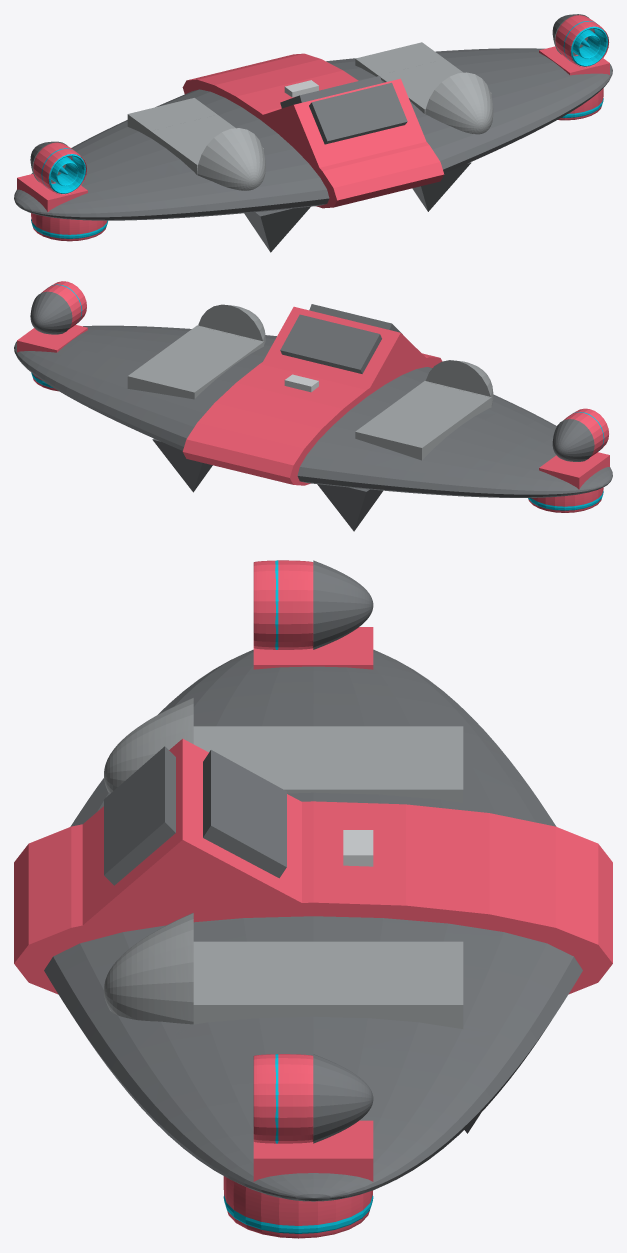
File: team-c-colored.glb
3 views of the same model, one above another, from view 1: azimuth 30°, elevation 25°; view 2: azimuth 150°, elevation 25°; view 3: azimuth 270°, elevation 25° (orthographic). The views are drawn at different scales.
Parts seen in each view (by area): view 1: obj_0; view 2: obj_0; view 3: obj_0.
Part boxes in pixels (x1,y1,x2,y2): obj_0: (14, 14, 612, 252); obj_0: (14, 281, 612, 531); obj_0: (14, 560, 612, 1238).
Bounding box in the file's own units: 44 × 10.16 × 20.
